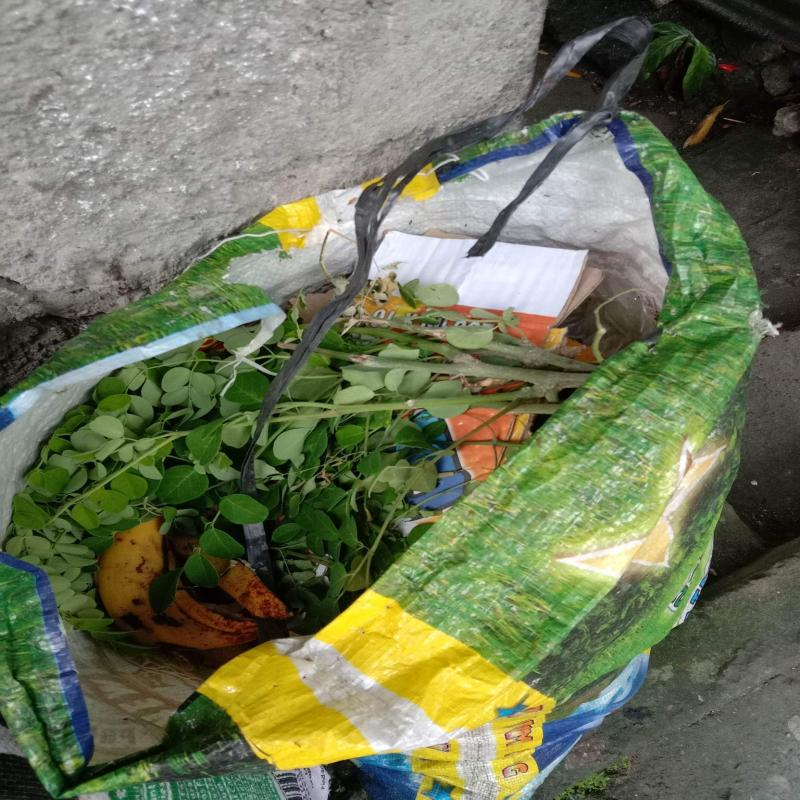cardboard: (364, 231, 603, 343)
fruit peels: (97, 518, 279, 655), (200, 549, 294, 620)
vegetable peels: (3, 301, 596, 645)
